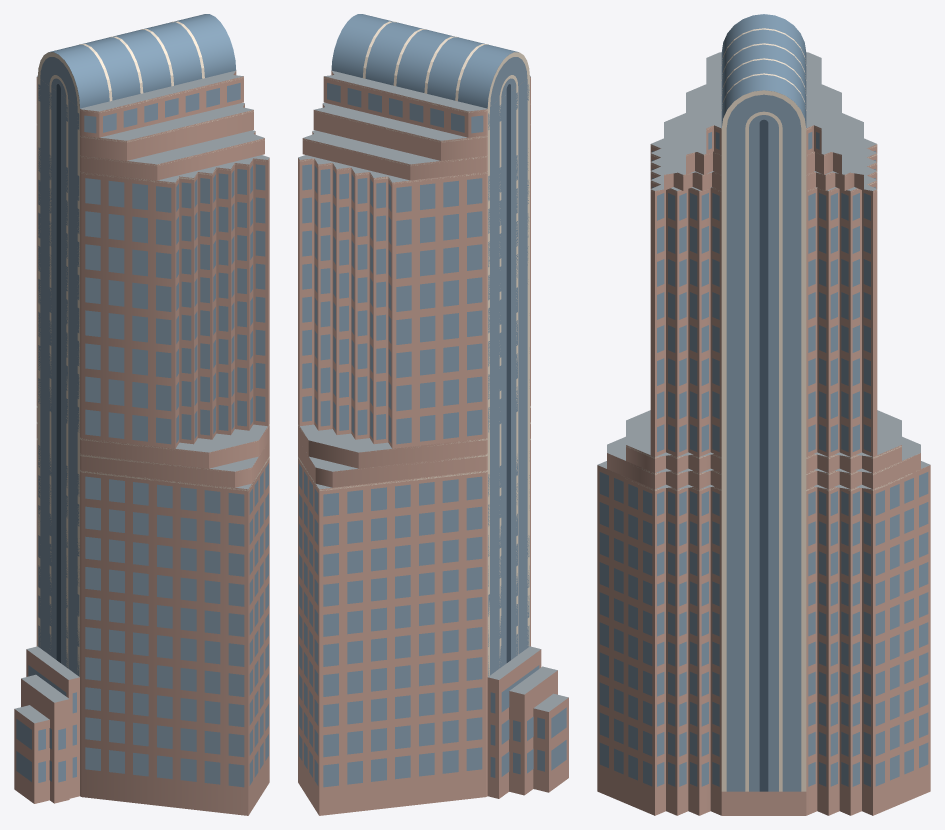
File: one-wells-fargo-center.glb
The picture shows the model from 3 angles, left to right: view 1: azimuth 30°, elevation 25°; view 2: azimuth 150°, elevation 25°; view 3: azimuth 270°, elevation 25°; orthographic projection.
Parts seen in each view (by area): view 1: One Wells Fargo Center; view 2: One Wells Fargo Center; view 3: One Wells Fargo Center.
Part boxes in pixels (x1,y1,x2,y2): One Wells Fargo Center: (14, 14, 269, 815); One Wells Fargo Center: (298, 14, 568, 815); One Wells Fargo Center: (597, 14, 930, 815).
Bounding box in the file's own units: 51.59 × 180 × 75.
